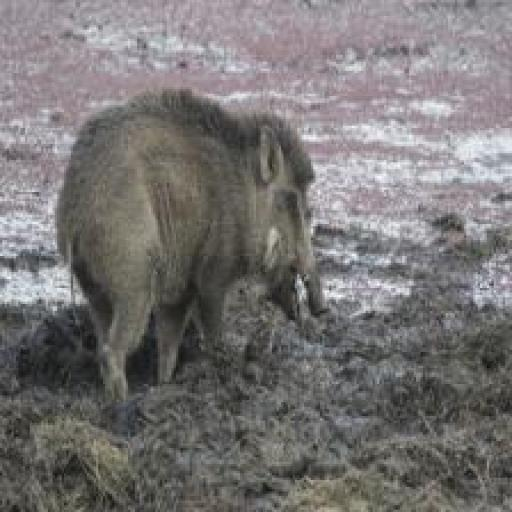Pig: (50, 87, 340, 398)
